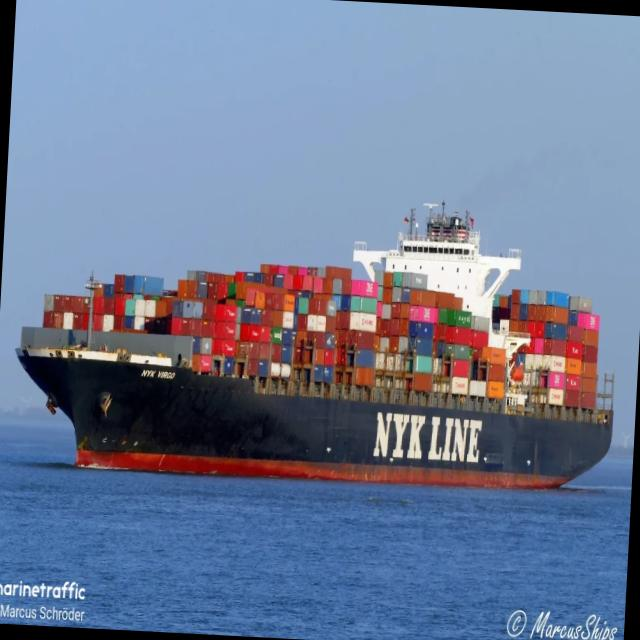Cargo: (16, 210, 613, 488)
